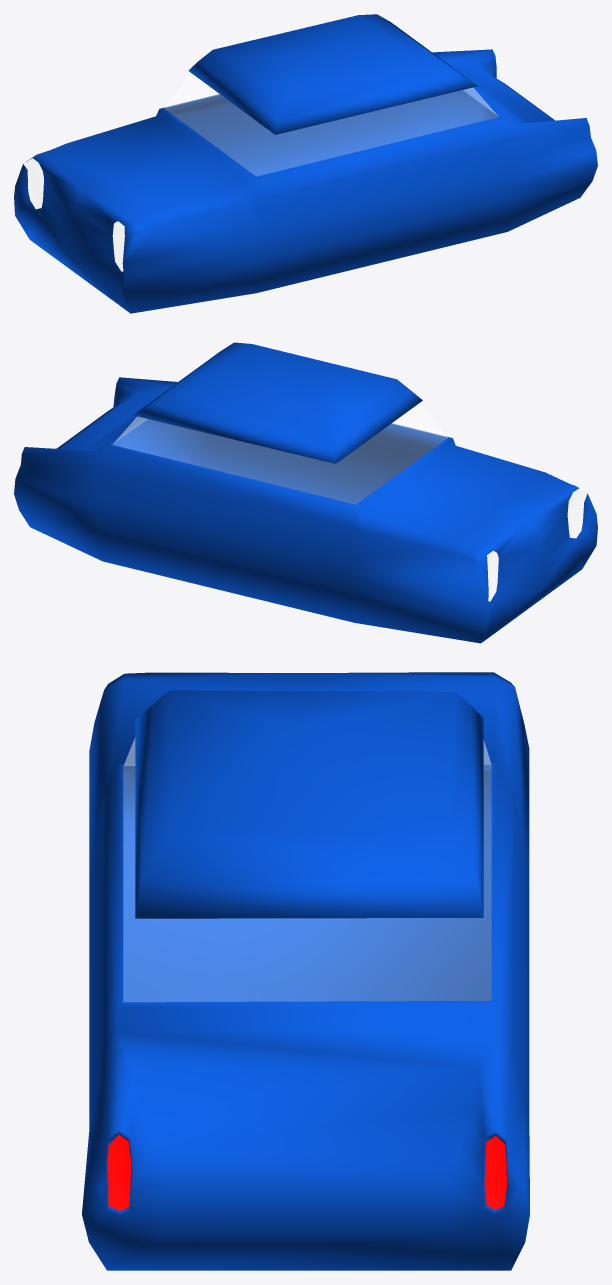
File: car2.glb
3 renders of one model, top to bottom at view 1: azimuth 30°, elevation 25°; view 2: azimuth 150°, elevation 25°; view 3: azimuth 270°, elevation 25°, orthographic. The views are drawn at different scales.
Parts seen in each view (by area): view 1: Flying car 2; view 2: Flying car 2; view 3: Flying car 2.
Boxes of the visible parts, box(x1,y1,x2,y2) form: Flying car 2: box(14, 14, 597, 313); Flying car 2: box(14, 342, 597, 643); Flying car 2: box(82, 672, 529, 1270).
Size of the model in its own units: 17.16 by 6.08 by 7.05.
